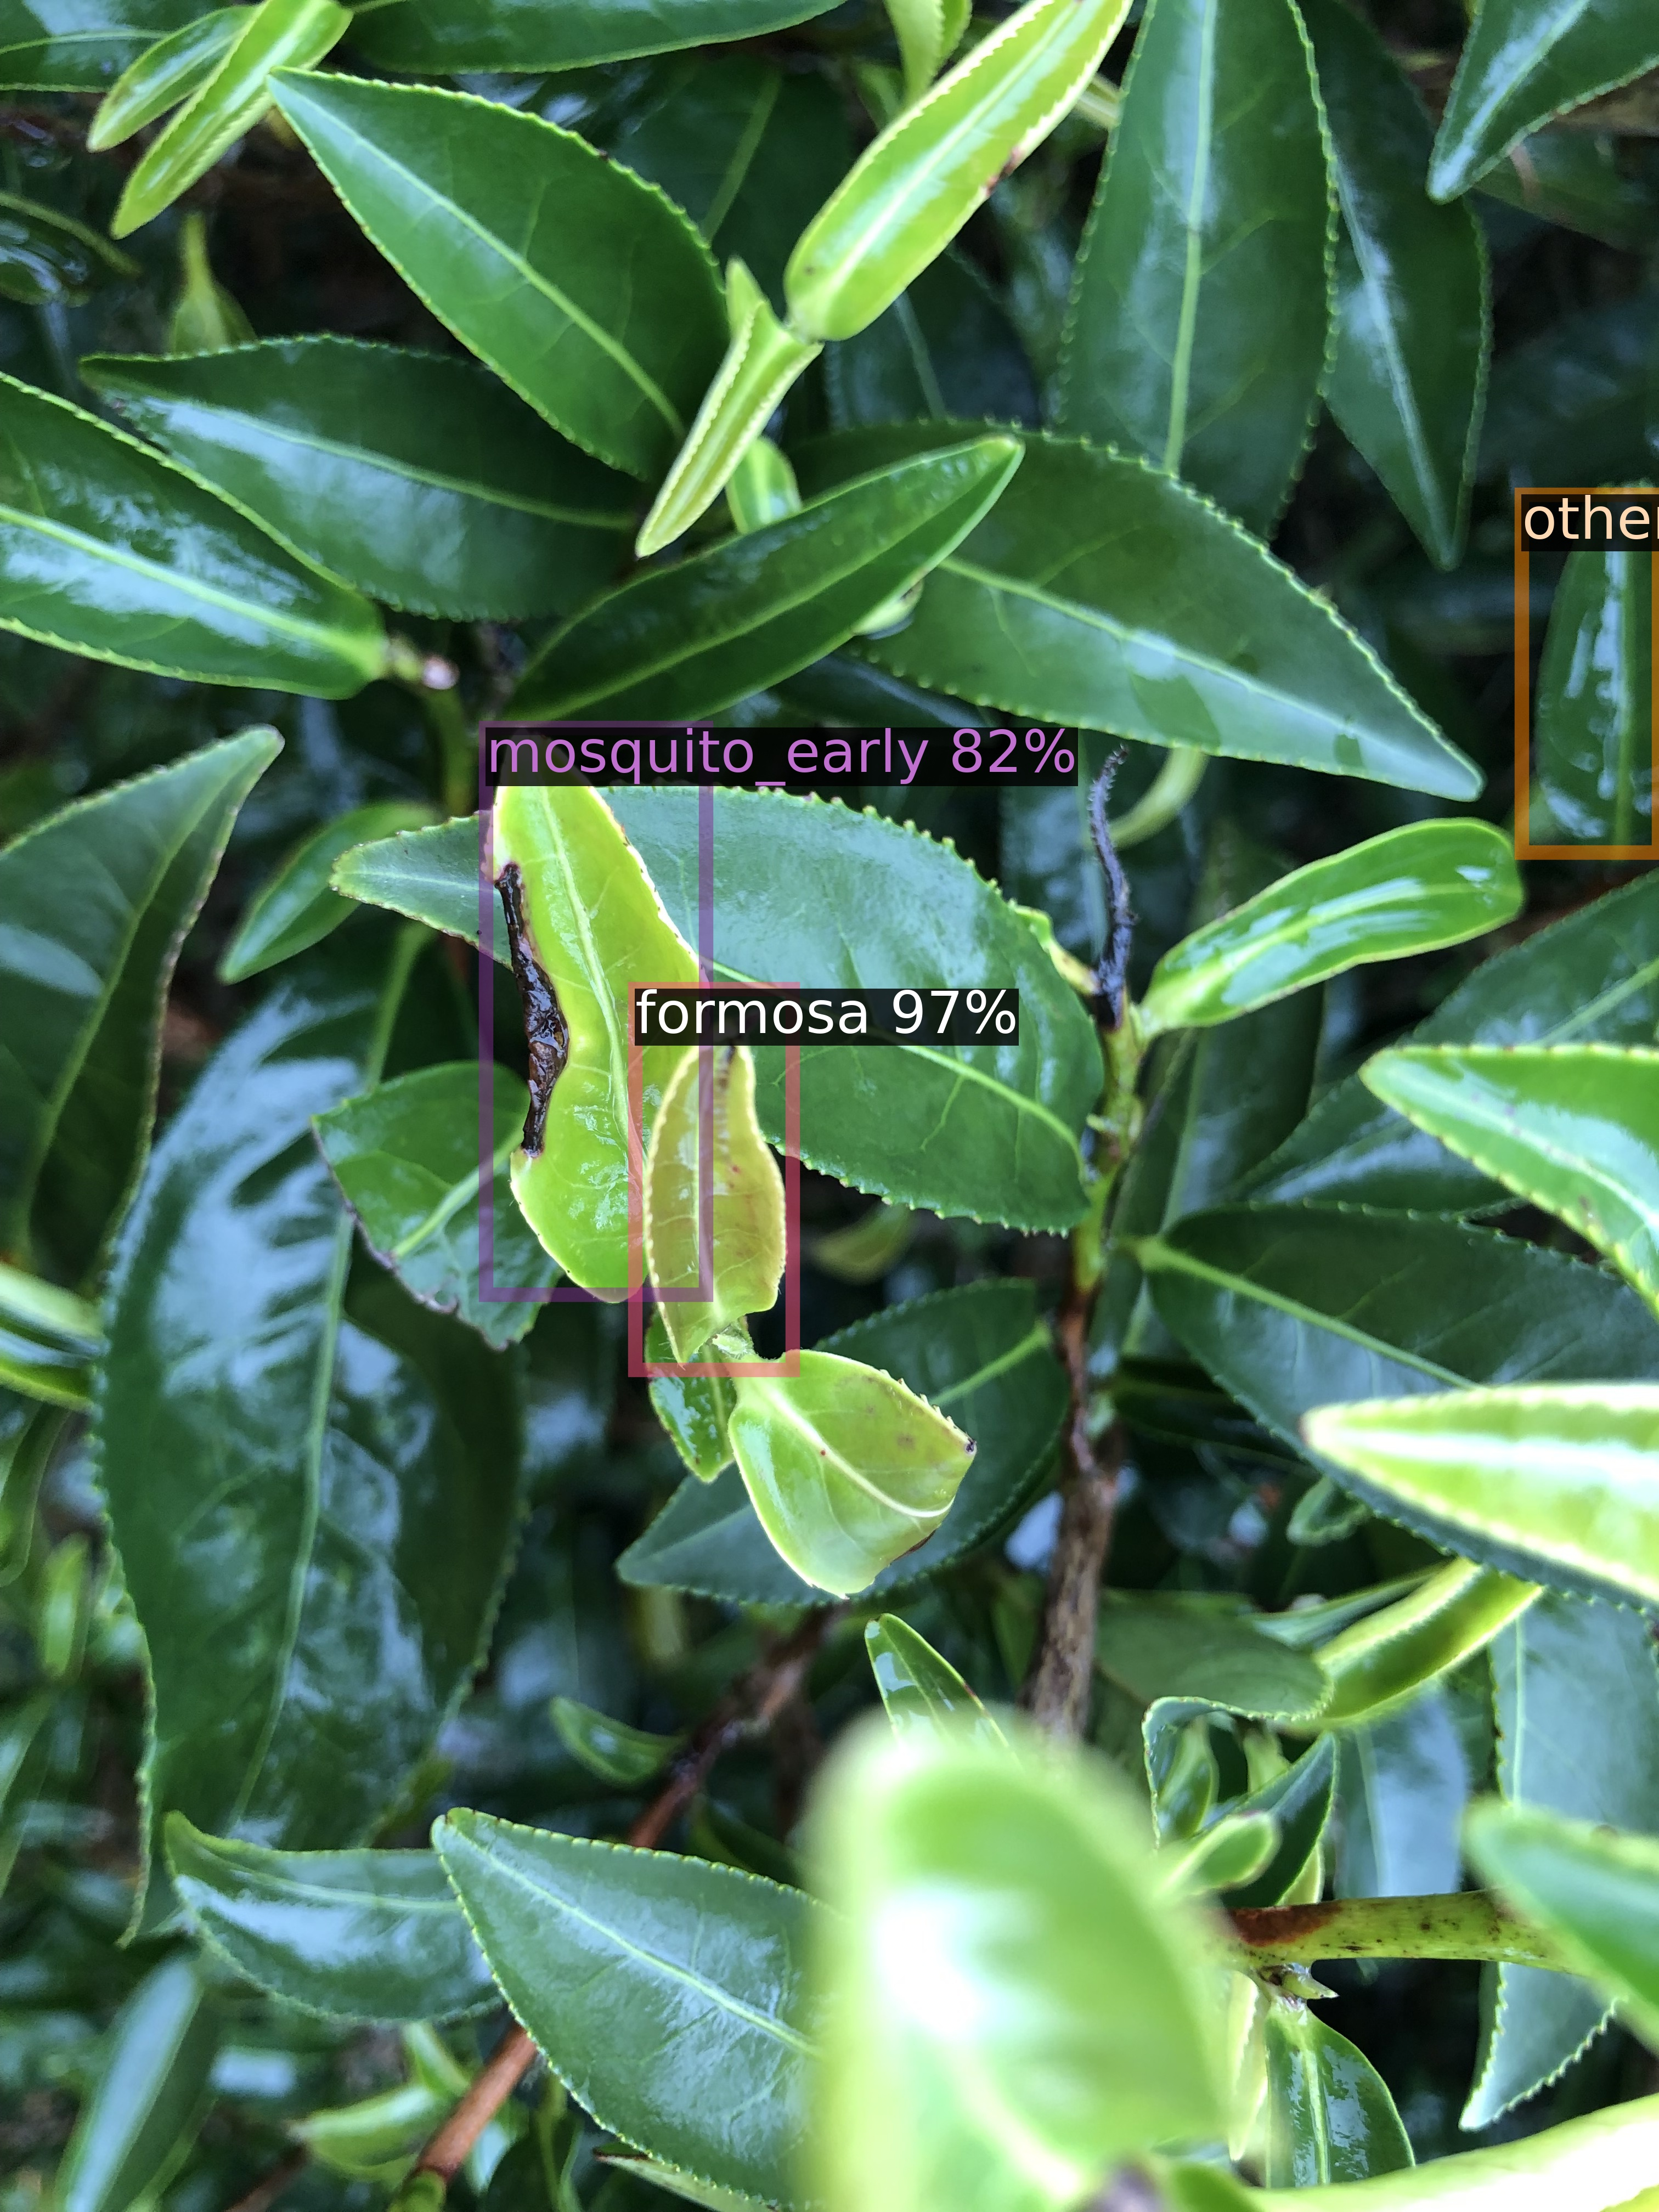formosa: (634, 989, 793, 1371)
mosquito_early: (486, 728, 706, 1294)
other: (1521, 495, 1659, 852)
